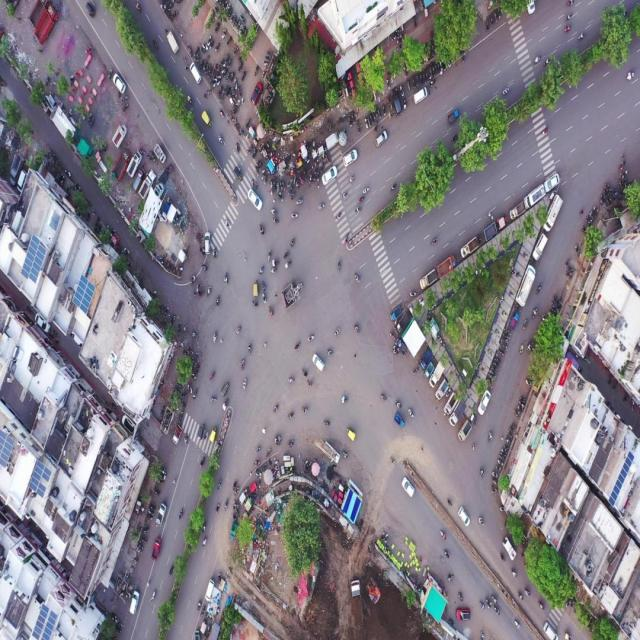3W: (200, 109, 214, 128), (195, 420, 206, 443), (232, 163, 244, 184), (85, 0, 97, 21), (345, 426, 357, 444), (250, 278, 260, 298), (220, 379, 230, 399), (394, 413, 406, 429), (209, 425, 218, 445), (199, 618, 208, 634)
Cars: (247, 189, 266, 213), (400, 474, 416, 500), (502, 535, 517, 562), (533, 233, 547, 261), (311, 351, 327, 374), (342, 146, 358, 169), (542, 621, 560, 640), (478, 389, 491, 415), (390, 87, 402, 115), (543, 174, 560, 193), (188, 61, 202, 84), (129, 587, 140, 615), (249, 81, 263, 103), (321, 166, 337, 185), (412, 88, 428, 106), (204, 576, 215, 601), (455, 606, 472, 622), (459, 506, 471, 528), (204, 227, 213, 256), (113, 74, 126, 94), (373, 130, 388, 147)
LCV: (517, 267, 536, 306), (545, 195, 563, 232), (434, 254, 456, 280), (525, 184, 545, 210), (140, 170, 156, 200), (430, 362, 445, 390), (451, 400, 465, 430), (112, 122, 127, 148), (459, 238, 478, 258), (127, 151, 142, 176), (443, 393, 457, 419), (418, 270, 437, 289), (155, 501, 167, 530), (150, 537, 163, 563), (444, 108, 461, 127), (396, 312, 410, 335), (132, 167, 144, 192), (435, 378, 449, 399), (154, 141, 168, 162), (509, 201, 525, 219), (419, 347, 431, 370), (458, 420, 471, 441), (325, 131, 339, 149), (172, 424, 182, 444), (390, 305, 402, 321), (423, 361, 434, 377), (509, 315, 520, 330), (397, 340, 407, 356)
M2W: (624, 69, 636, 82), (486, 428, 495, 445), (239, 355, 247, 373), (427, 235, 439, 247), (222, 271, 230, 288), (149, 589, 157, 606), (531, 304, 540, 319), (535, 281, 544, 296), (216, 475, 224, 491), (213, 500, 221, 516), (521, 316, 529, 332), (407, 407, 416, 421), (265, 246, 272, 264), (356, 194, 366, 206), (501, 85, 511, 97), (199, 453, 206, 470), (168, 561, 175, 578), (195, 596, 202, 613), (301, 403, 310, 416), (287, 374, 296, 387), (334, 210, 343, 223), (347, 172, 356, 185), (563, 23, 572, 36), (388, 180, 397, 193), (479, 463, 485, 482), (246, 340, 253, 356), (134, 0, 142, 14), (340, 394, 349, 406), (323, 416, 332, 428), (301, 367, 310, 379), (352, 271, 361, 283), (353, 205, 362, 217), (281, 249, 290, 261), (222, 217, 231, 229), (439, 529, 448, 541), (523, 585, 532, 597), (267, 304, 274, 319), (208, 369, 215, 384), (205, 285, 213, 298), (389, 455, 397, 468), (212, 329, 218, 346), (361, 185, 371, 195), (564, 13, 574, 23), (340, 191, 349, 202), (258, 224, 267, 235), (284, 258, 293, 269), (151, 39, 160, 50), (514, 619, 523, 630), (577, 30, 586, 41), (258, 261, 265, 275), (242, 376, 249, 390), (444, 548, 451, 562), (517, 341, 524, 355), (577, 207, 584, 221), (269, 265, 277, 277), (235, 323, 241, 339), (223, 497, 229, 513), (479, 600, 487, 612), (477, 516, 485, 528), (563, 0, 575, 8), (189, 273, 197, 285), (107, 66, 113, 82), (272, 402, 279, 415), (217, 133, 224, 146), (458, 590, 465, 603), (485, 597, 492, 610), (534, 53, 541, 66), (341, 450, 350, 460), (307, 333, 316, 343), (294, 197, 303, 207), (215, 293, 221, 308), (202, 519, 208, 534), (516, 591, 525, 601), (537, 601, 546, 611), (379, 393, 387, 404), (326, 347, 334, 358), (510, 568, 518, 579), (491, 594, 499, 605), (336, 259, 341, 276), (287, 409, 294, 421), (262, 292, 268, 306), (178, 506, 184, 520), (201, 534, 208, 546), (186, 94, 193, 106), (183, 433, 189, 447), (265, 446, 272, 458), (214, 19, 220, 33), (306, 378, 315, 387), (318, 202, 327, 211), (270, 208, 279, 217), (447, 574, 456, 583), (139, 535, 148, 544), (333, 326, 341, 336), (294, 341, 302, 351), (212, 244, 217, 260), (186, 45, 192, 58), (210, 38, 216, 51), (399, 84, 405, 97), (574, 243, 580, 256), (221, 28, 227, 41), (493, 606, 500, 617), (251, 299, 258, 310), (291, 235, 297, 247), (290, 211, 298, 220), (260, 280, 266, 292), (187, 383, 193, 395), (150, 150, 156, 162), (172, 9, 178, 21), (541, 127, 549, 136), (491, 470, 499, 479), (497, 459, 505, 468), (585, 214, 591, 226), (226, 35, 232, 47), (233, 44, 239, 56), (396, 399, 403, 409), (209, 396, 216, 406), (192, 387, 197, 401), (544, 57, 551, 67), (254, 64, 259, 78), (221, 62, 226, 76), (564, 256, 570, 267), (200, 605, 206, 616), (239, 13, 245, 24), (69, 73, 74, 86), (213, 62, 218, 75), (226, 70, 231, 83), (234, 17, 239, 30), (136, 543, 144, 551), (490, 365, 498, 373), (272, 216, 279, 225), (201, 262, 208, 271), (152, 489, 161, 496), (145, 153, 152, 162), (121, 104, 130, 111), (275, 195, 284, 202), (389, 331, 396, 340), (524, 380, 533, 387), (519, 400, 526, 409), (493, 356, 502, 363), (500, 553, 506, 563), (231, 479, 237, 489), (86, 113, 92, 123), (207, 35, 212, 47), (215, 43, 221, 53), (235, 143, 241, 153), (263, 174, 268, 186), (377, 107, 382, 119), (406, 80, 411, 92), (513, 409, 519, 419), (225, 52, 230, 64), (218, 84, 223, 96), (255, 445, 262, 453), (357, 122, 361, 136), (498, 454, 505, 462), (498, 349, 505, 357), (501, 343, 508, 351), (354, 325, 360, 334), (446, 497, 452, 506), (234, 487, 240, 496), (270, 180, 273, 198), (287, 179, 293, 188), (287, 187, 293, 196), (410, 289, 416, 298), (238, 61, 244, 70), (273, 180, 277, 193), (299, 174, 303, 187), (386, 78, 390, 91), (428, 65, 432, 78), (494, 11, 498, 24), (325, 155, 330, 165), (374, 121, 379, 131), (430, 78, 435, 88), (143, 527, 150, 534), (149, 503, 156, 510), (121, 95, 128, 102), (202, 44, 209, 51), (581, 227, 588, 234), (303, 170, 307, 182), (252, 147, 256, 159), (316, 170, 320, 182), (369, 113, 373, 125), (453, 133, 459, 141), (490, 15, 494, 27), (234, 79, 238, 91), (212, 77, 216, 89), (290, 192, 295, 201), (241, 71, 246, 80), (230, 14, 235, 23), (382, 105, 386, 116), (412, 77, 416, 88), (432, 66, 436, 77), (229, 58, 233, 69), (217, 74, 221, 85), (255, 471, 262, 477), (148, 509, 154, 516), (486, 18, 489, 32), (495, 466, 502, 472), (220, 109, 224, 119), (261, 169, 265, 179), (320, 161, 324, 171), (348, 117, 352, 127), (367, 118, 371, 128), (231, 71, 235, 81), (296, 180, 299, 193), (375, 105, 378, 118), (416, 73, 419, 86), (420, 73, 423, 86), (238, 85, 241, 98), (351, 112, 354, 124), (387, 95, 390, 106), (423, 73, 426, 84), (438, 62, 441, 73), (504, 439, 512, 443), (425, 71, 428, 81), (435, 64, 438, 74)
Truck: (34, 3, 58, 44), (348, 576, 365, 630), (112, 149, 130, 180)
